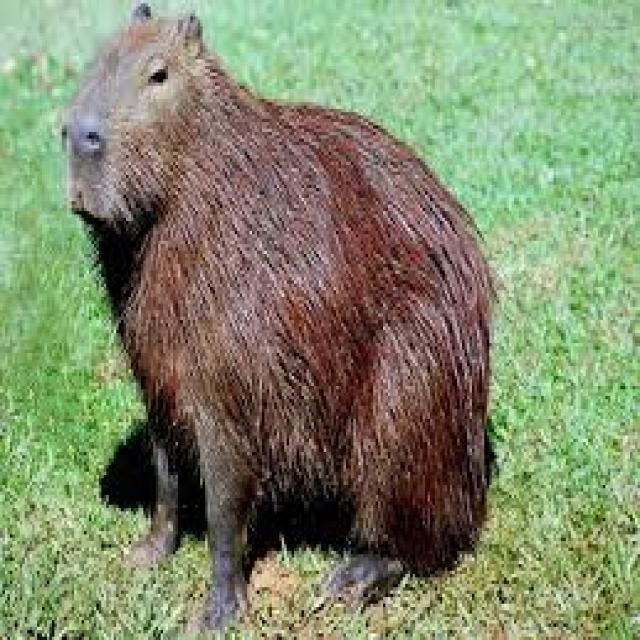capy: (60, 2, 495, 616)
